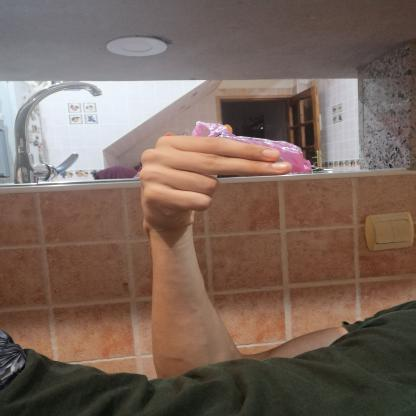AYN: (119, 114, 308, 242)
